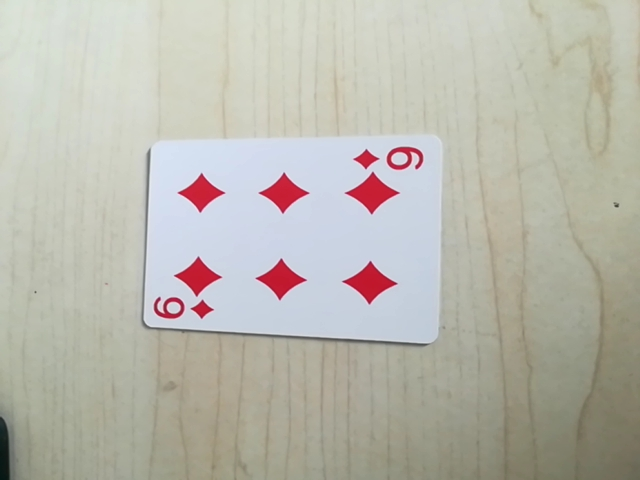fk 6: (350, 140, 427, 176), (150, 293, 215, 326)
